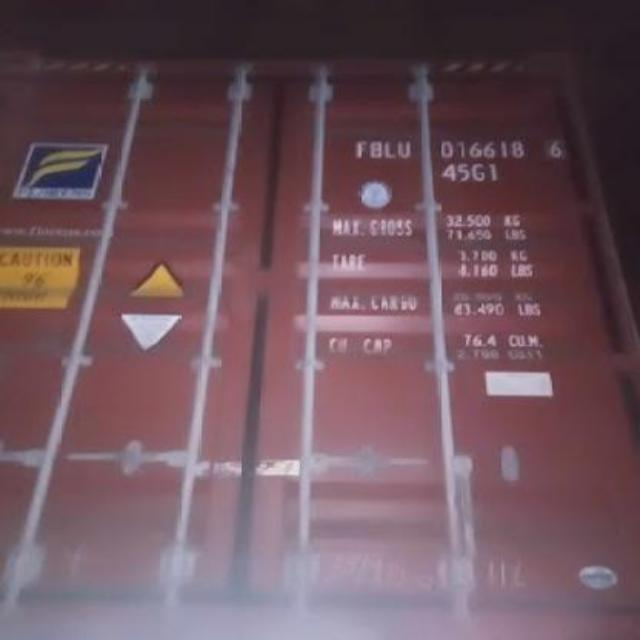0: (438, 136, 454, 158)
1: (454, 132, 468, 160), (498, 134, 510, 158)
6: (544, 132, 562, 160), (482, 134, 498, 162), (468, 134, 482, 162)
8: (510, 136, 526, 162)
B: (368, 136, 382, 164)
F: (350, 134, 366, 162)
L: (382, 134, 396, 162)
U: (396, 132, 412, 164)
